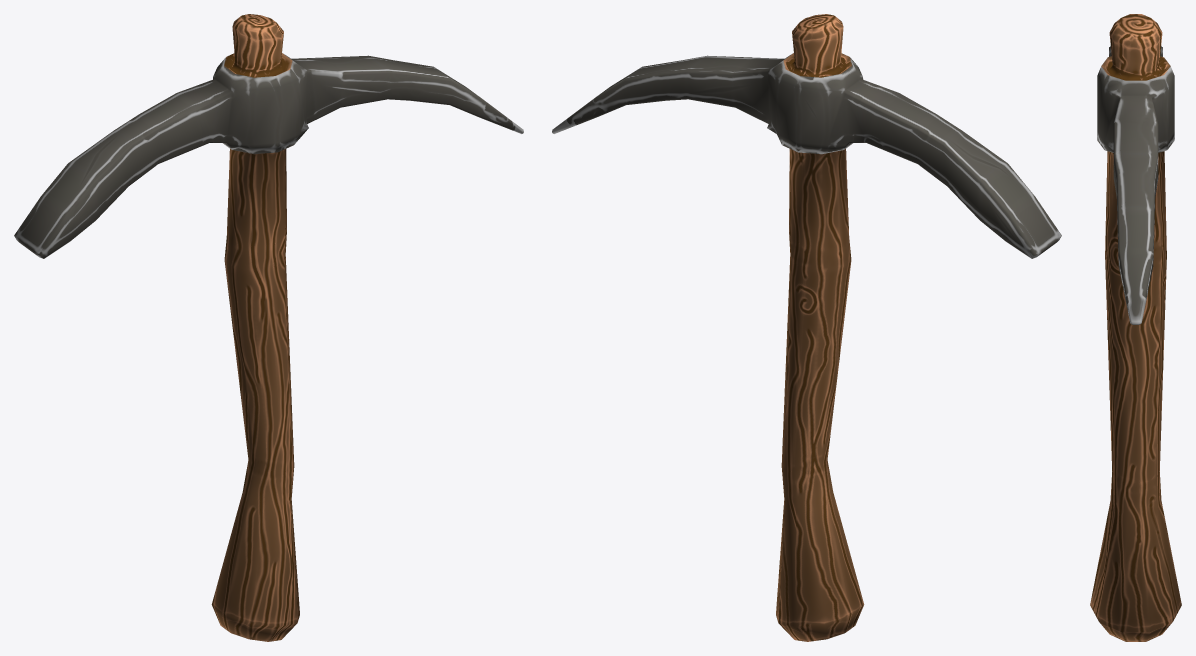
The model's file is Pickaxe.fbx.
3 views of the same model, side by side, from view 1: azimuth 30°, elevation 25°; view 2: azimuth 150°, elevation 25°; view 3: azimuth 270°, elevation 25° (orthographic).
Visible parts, largest first — view 1: SM_Pickaxe; view 2: SM_Pickaxe; view 3: SM_Pickaxe.
Part boxes in pixels (<box>): SM_Pickaxe: <box>14,14,523,641</box>; SM_Pickaxe: <box>552,14,1061,641</box>; SM_Pickaxe: <box>1090,14,1181,641</box>.
Bounding box in the file's own units: 55.35 × 65.94 × 8.98.
